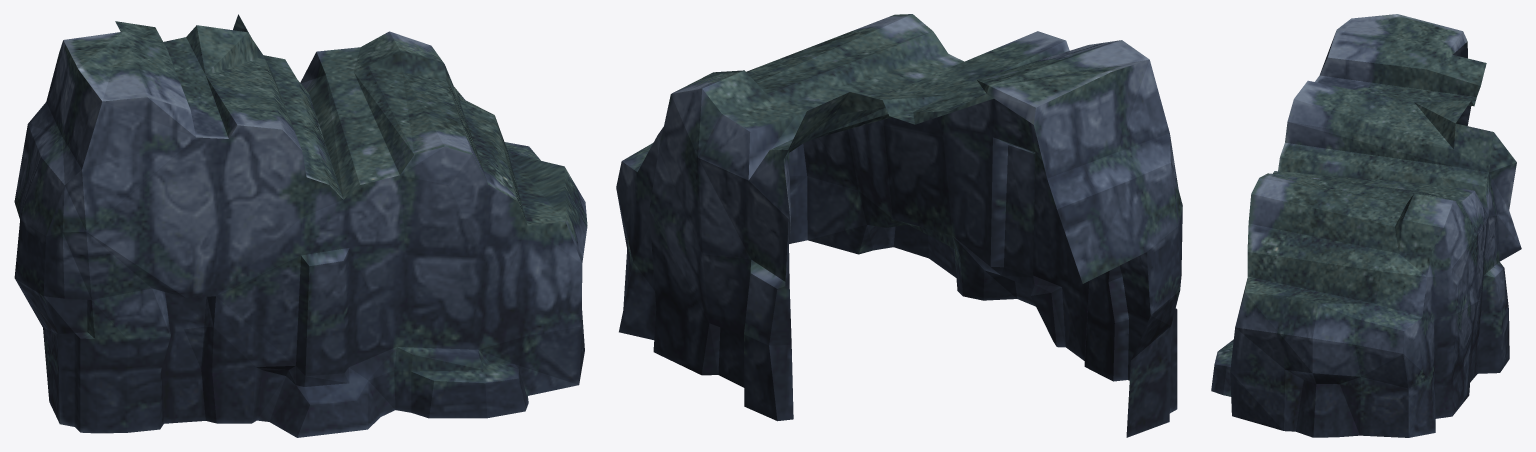
The model's file is cs_lobbynew02_wujian_zhiji_st02.FBX.
3 renders of one model, left to right at view 1: azimuth 30°, elevation 25°; view 2: azimuth 150°, elevation 25°; view 3: azimuth 270°, elevation 25°, orthographic. The views are drawn at different scales.
Parts seen in each view (by area): view 1: cs_lobbynew02_wujian_zhiji_st02; view 2: cs_lobbynew02_wujian_zhiji_st02; view 3: cs_lobbynew02_wujian_zhiji_st02.
Boxes of the visible parts, box(x1,y1,x2,y2) form: cs_lobbynew02_wujian_zhiji_st02: box(14, 14, 587, 437); cs_lobbynew02_wujian_zhiji_st02: box(616, 14, 1182, 437); cs_lobbynew02_wujian_zhiji_st02: box(1211, 14, 1521, 437).
Size of the model in its own units: 928 by 577 by 637.
